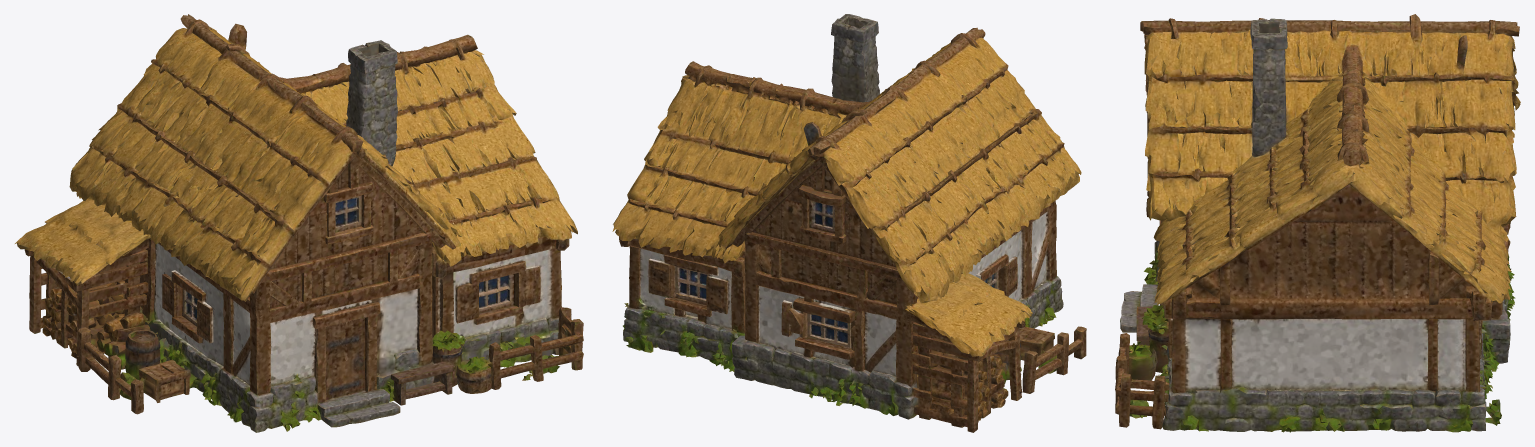
The model's file is farmhouse_lite.glb.
3 views of the same model, side by side, from view 1: azimuth 30°, elevation 25°; view 2: azimuth 150°, elevation 25°; view 3: azimuth 270°, elevation 25° (orthographic). The views are drawn at different scales.
Visible parts, largest first — view 1: geometry_0; view 2: geometry_0; view 3: geometry_0.
Boxes of the visible parts, <box> form: geometry_0: <box>15,14,583,432</box>; geometry_0: <box>612,14,1086,432</box>; geometry_0: <box>1115,14,1520,432</box>.
Size of the model in its own units: 1.88 by 1.36 by 1.52.
1 material, 1 textured.
